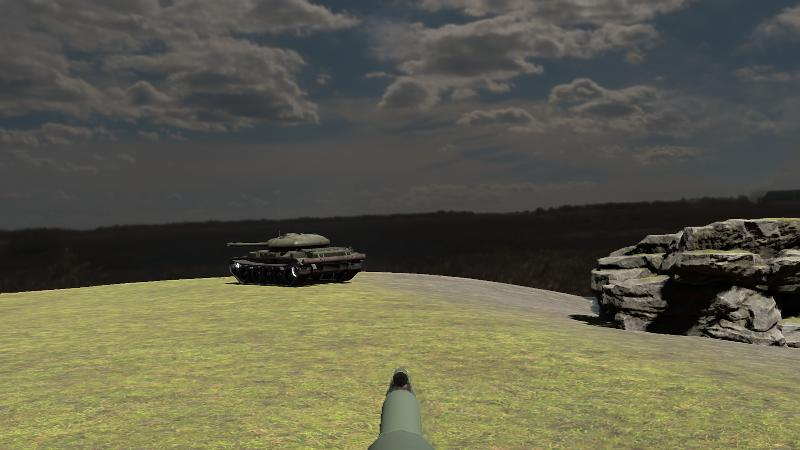Tank: (225, 230, 365, 287)
